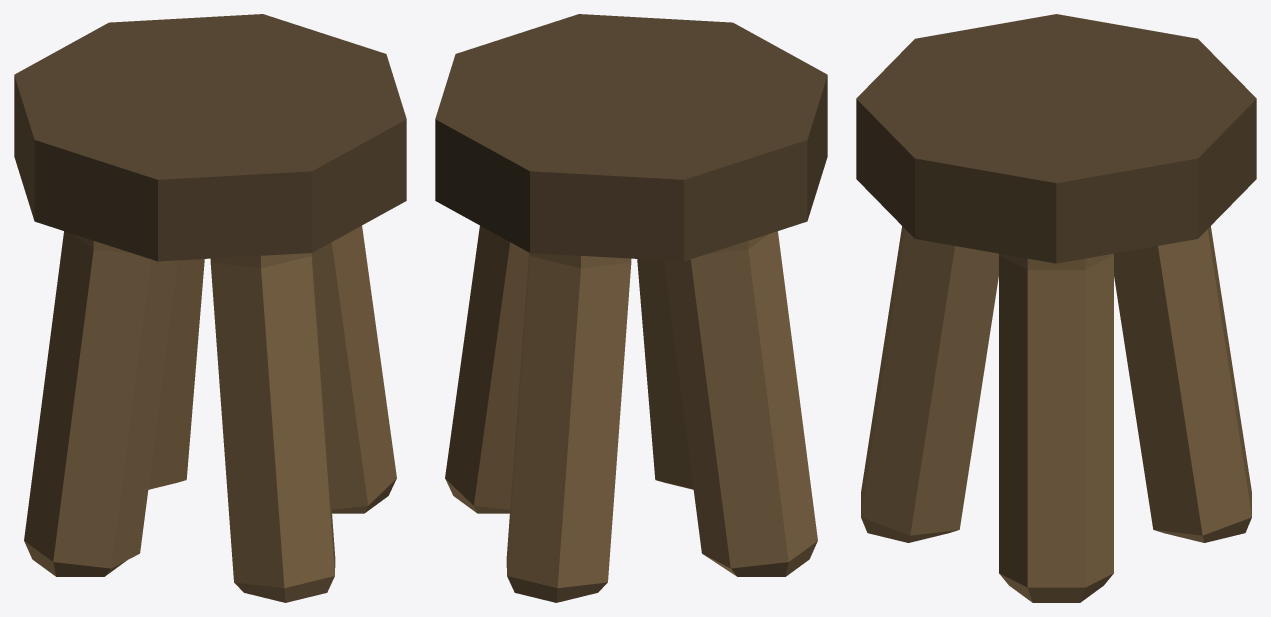
Rendered from stool.fbx.
3 views of the same model, side by side, from view 1: azimuth 30°, elevation 25°; view 2: azimuth 150°, elevation 25°; view 3: azimuth 270°, elevation 25° (orthographic).
Visible parts, largest first — view 1: Cylinder, Cylinder.002, Cylinder.004, Cylinder.001, Cylinder.003; view 2: Cylinder, Cylinder.002, Cylinder.003, Cylinder.001, Cylinder.004; view 3: Cylinder, Cylinder.001, Cylinder.003, Cylinder.004.
Part boxes in pixels (box(x1,y1,x2,y2)): Cylinder: box(14, 14, 406, 261); Cylinder.002: box(24, 231, 177, 576); Cylinder.004: box(210, 252, 335, 602); Cylinder.001: box(313, 225, 396, 513); Cylinder.003: box(148, 259, 204, 489); Cylinder: box(435, 14, 827, 261); Cylinder.002: box(664, 231, 817, 576); Cylinder.003: box(506, 252, 631, 602); Cylinder.001: box(445, 225, 528, 513); Cylinder.004: box(637, 259, 693, 489); Cylinder: box(856, 14, 1256, 263); Cylinder.001: box(999, 253, 1113, 602); Cylinder.003: box(1114, 226, 1251, 542); Cylinder.004: box(861, 226, 998, 542).
Bounding box in the file's own units: 200 × 234 × 200.
